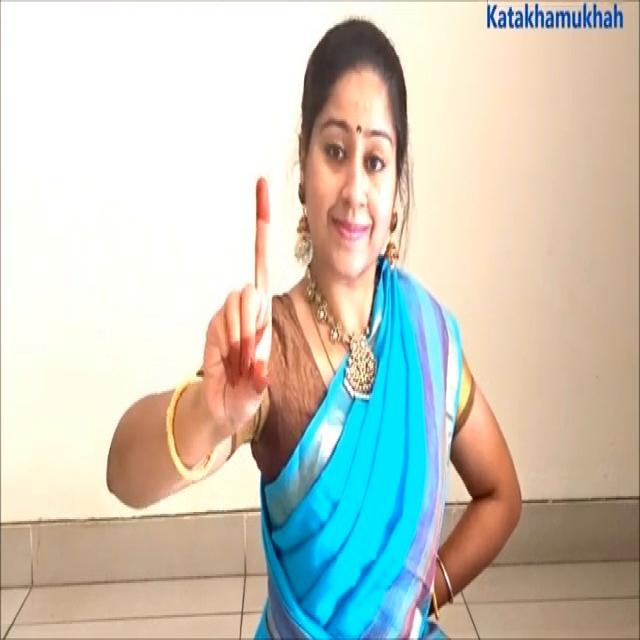Suchi: (200, 177, 290, 460)
lady: (295, 18, 414, 289)
text: (475, 0, 633, 49)
